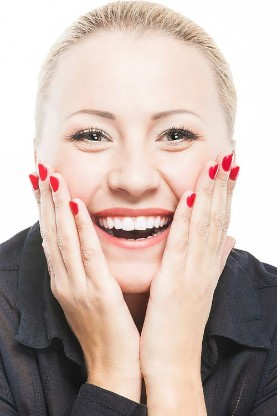张嘴: (80, 193, 181, 254)
